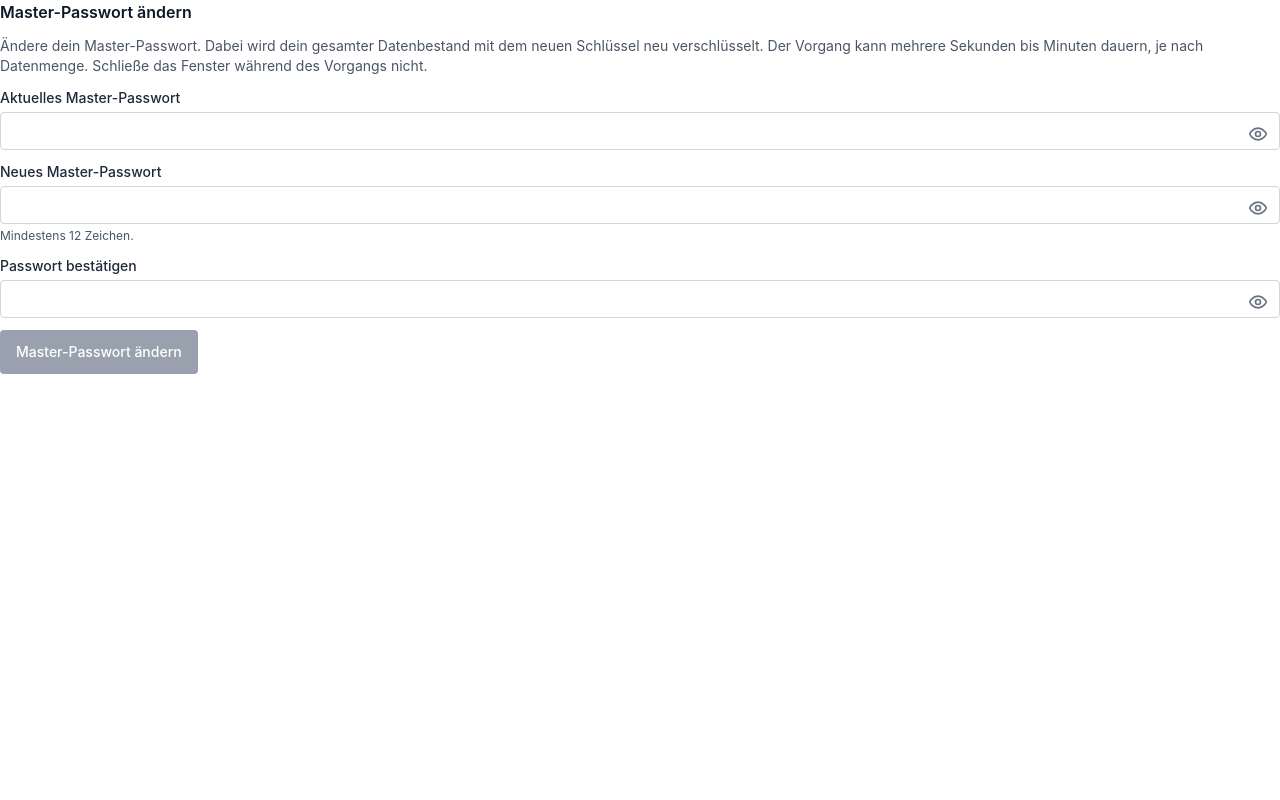
Test: ChangePasswordSection › submitting opens the confirmation modal
Step 1. Type "current-password-12" into the password field labelled "Aktuelles Master-Passwort" → (640, 131), box [0,112,1279,150]
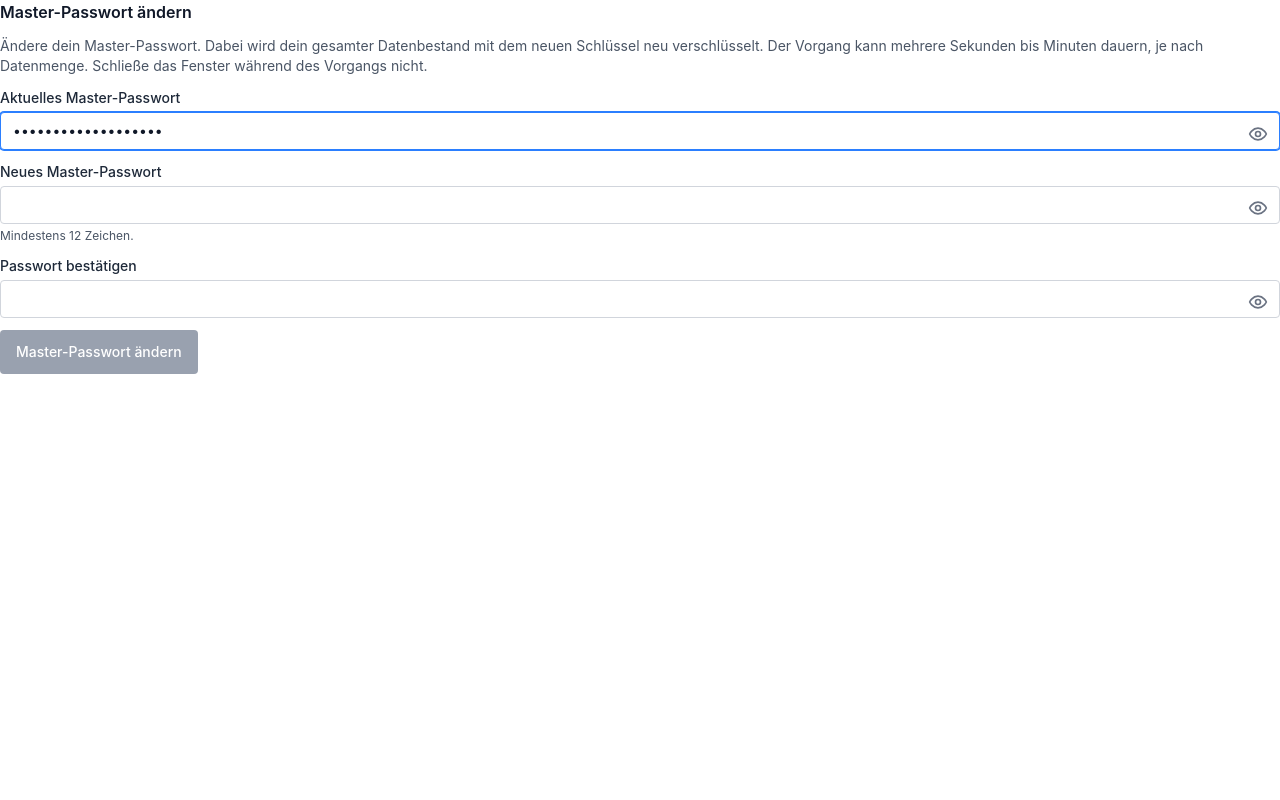
Step 2. Type "next-password-345" into the password field labelled "Neues Master-Passwort" → (640, 205), box [0,186,1279,224]
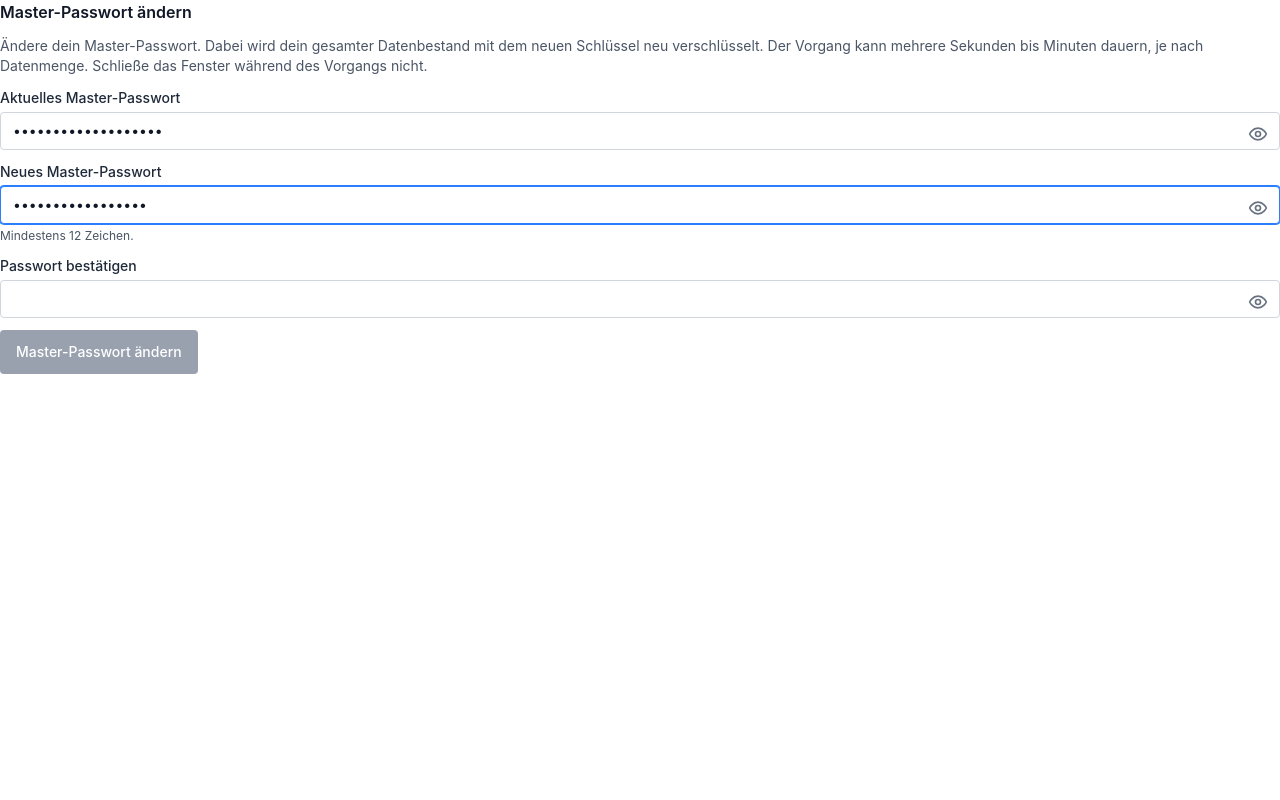
Step 3. Type "next-password-345" into the password field labelled "Passwort bestätigen" → (640, 299), box [0,280,1279,318]
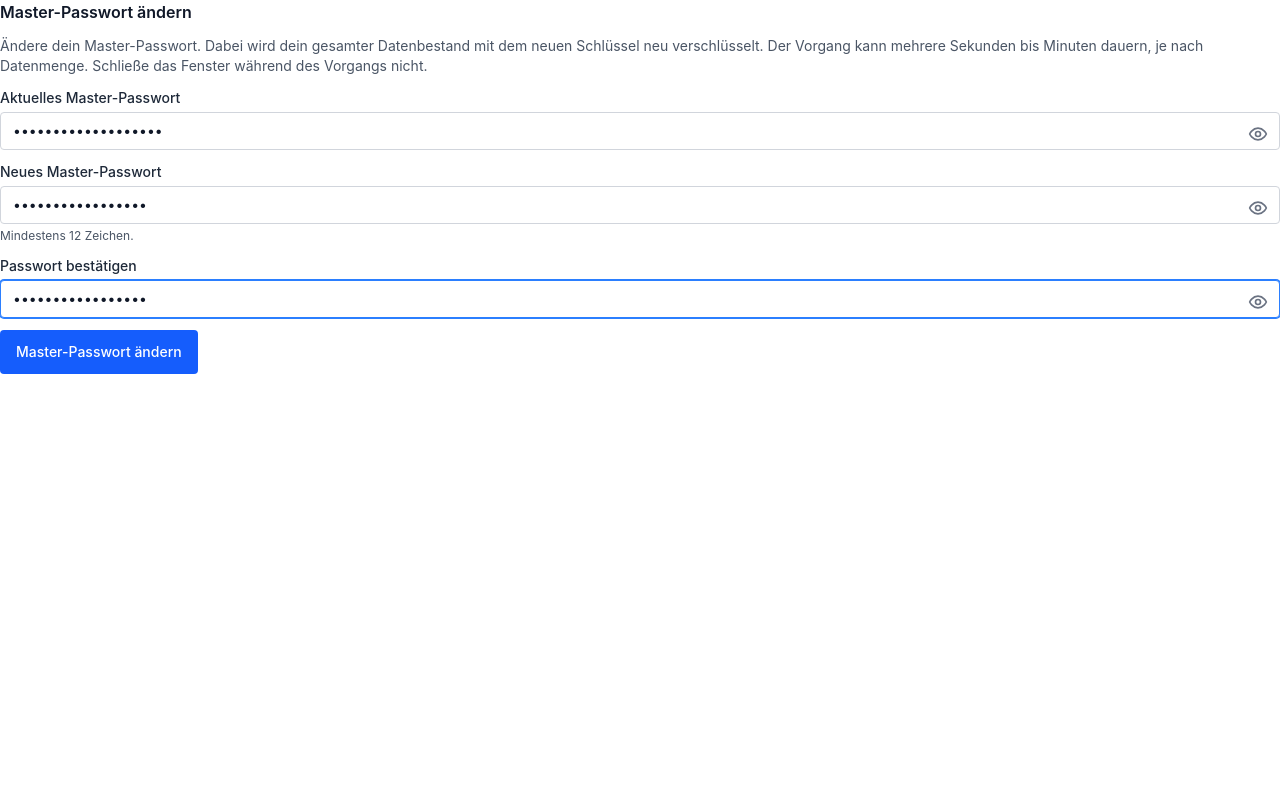
Step 4. Click the button "Master-Passwort ändern" → (99, 352), box [0,330,198,374]
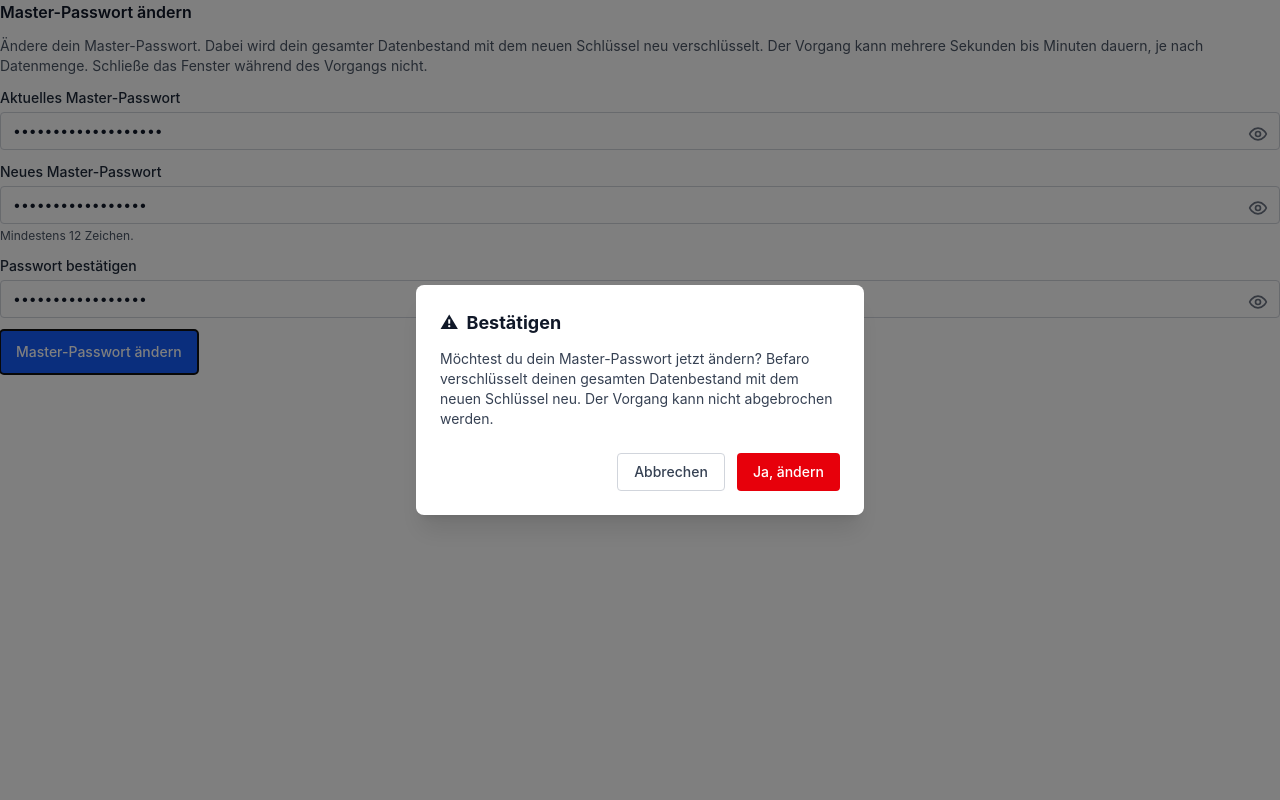
Expected: the dialog is shown
Expected: the heading "⚠ Bestätigen" is shown, [440,312,561,333]
